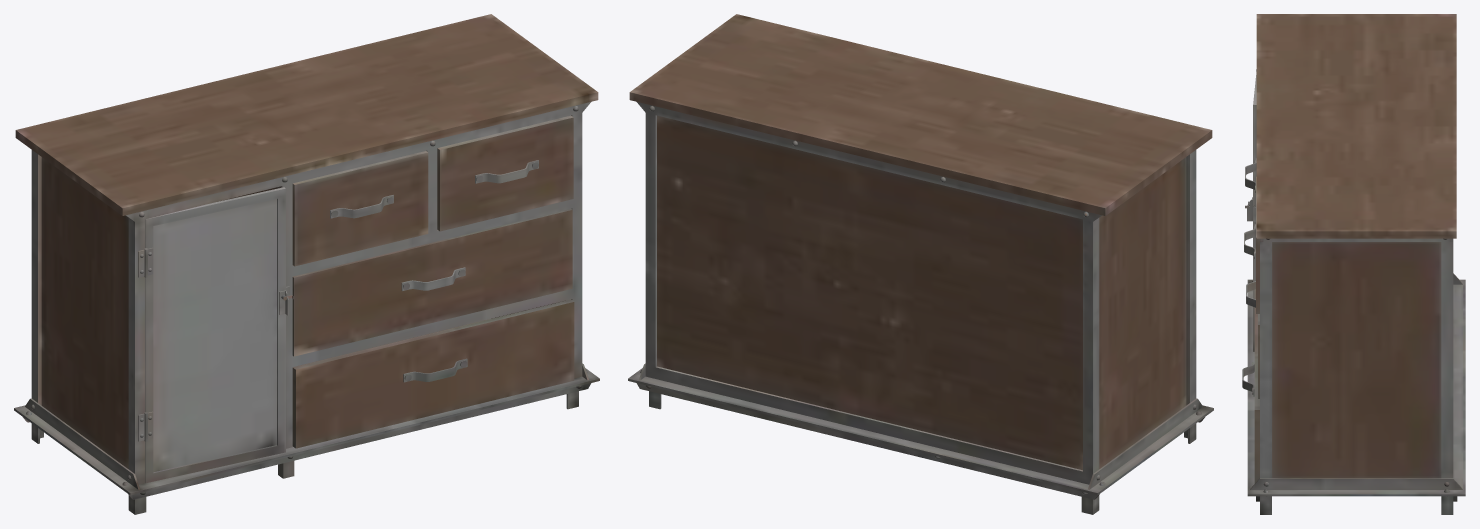
The model's file is dresser.glb.
3 renders of one model, left to right at view 1: azimuth 30°, elevation 25°; view 2: azimuth 150°, elevation 25°; view 3: azimuth 270°, elevation 25°, orthographic. The views are drawn at different scales.
Parts seen in each view (by area): view 1: WoodenTable_03_body, WoodenTable_03_door, WoodenTable_03_drawer04, WoodenTable_03_drawer03, WoodenTable_03_drawer02, WoodenTable_03_drawer01; view 2: WoodenTable_03_body; view 3: WoodenTable_03_body, WoodenTable_03_drawer04, WoodenTable_03_door, WoodenTable_03_drawer02, WoodenTable_03_drawer03.
Part boxes in pixels (x1,y1,x2,y2): WoodenTable_03_body: (14,14,599,514); WoodenTable_03_door: (144,187,293,483); WoodenTable_03_drawer04: (292,299,574,448); WoodenTable_03_drawer03: (292,209,572,356); WoodenTable_03_drawer02: (437,115,573,231); WoodenTable_03_drawer01: (292,151,428,266); WoodenTable_03_body: (628,14,1213,514); WoodenTable_03_body: (1247,14,1465,514); WoodenTable_03_drawer04: (1242,289,1259,483); WoodenTable_03_door: (1245,69,1256,351); WoodenTable_03_drawer02: (1244,176,1259,313); WoodenTable_03_drawer03: (1246,281,1259,398).
Bounding box in the file's own units: 1.33 × 0.83 × 0.5753.
1 material, 1 textured.
